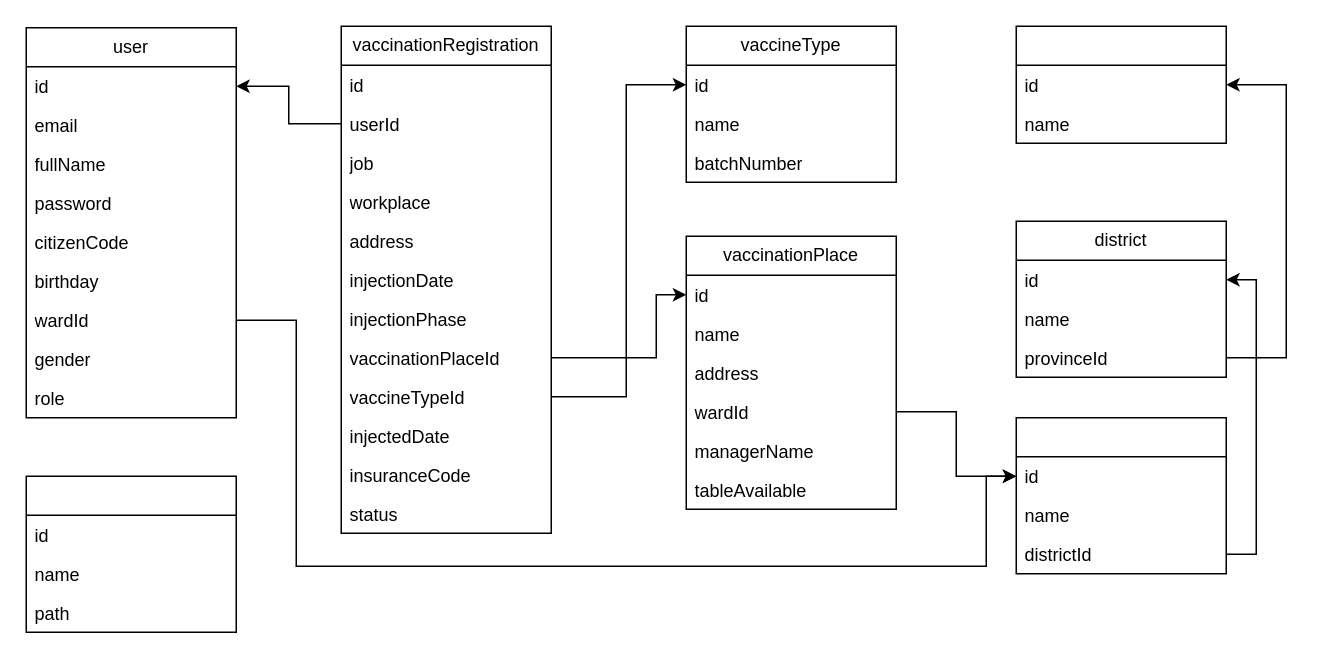
This 1325x663 diagram has some shape labels left out. The shapes that lost their labels are listed below. From the top down, each one's box as (x1, y1, x2, y2) in pixels, then its label:
(1015, 25, 1226, 143): province
(1015, 416, 1226, 574): ward
(25, 475, 236, 632): document
